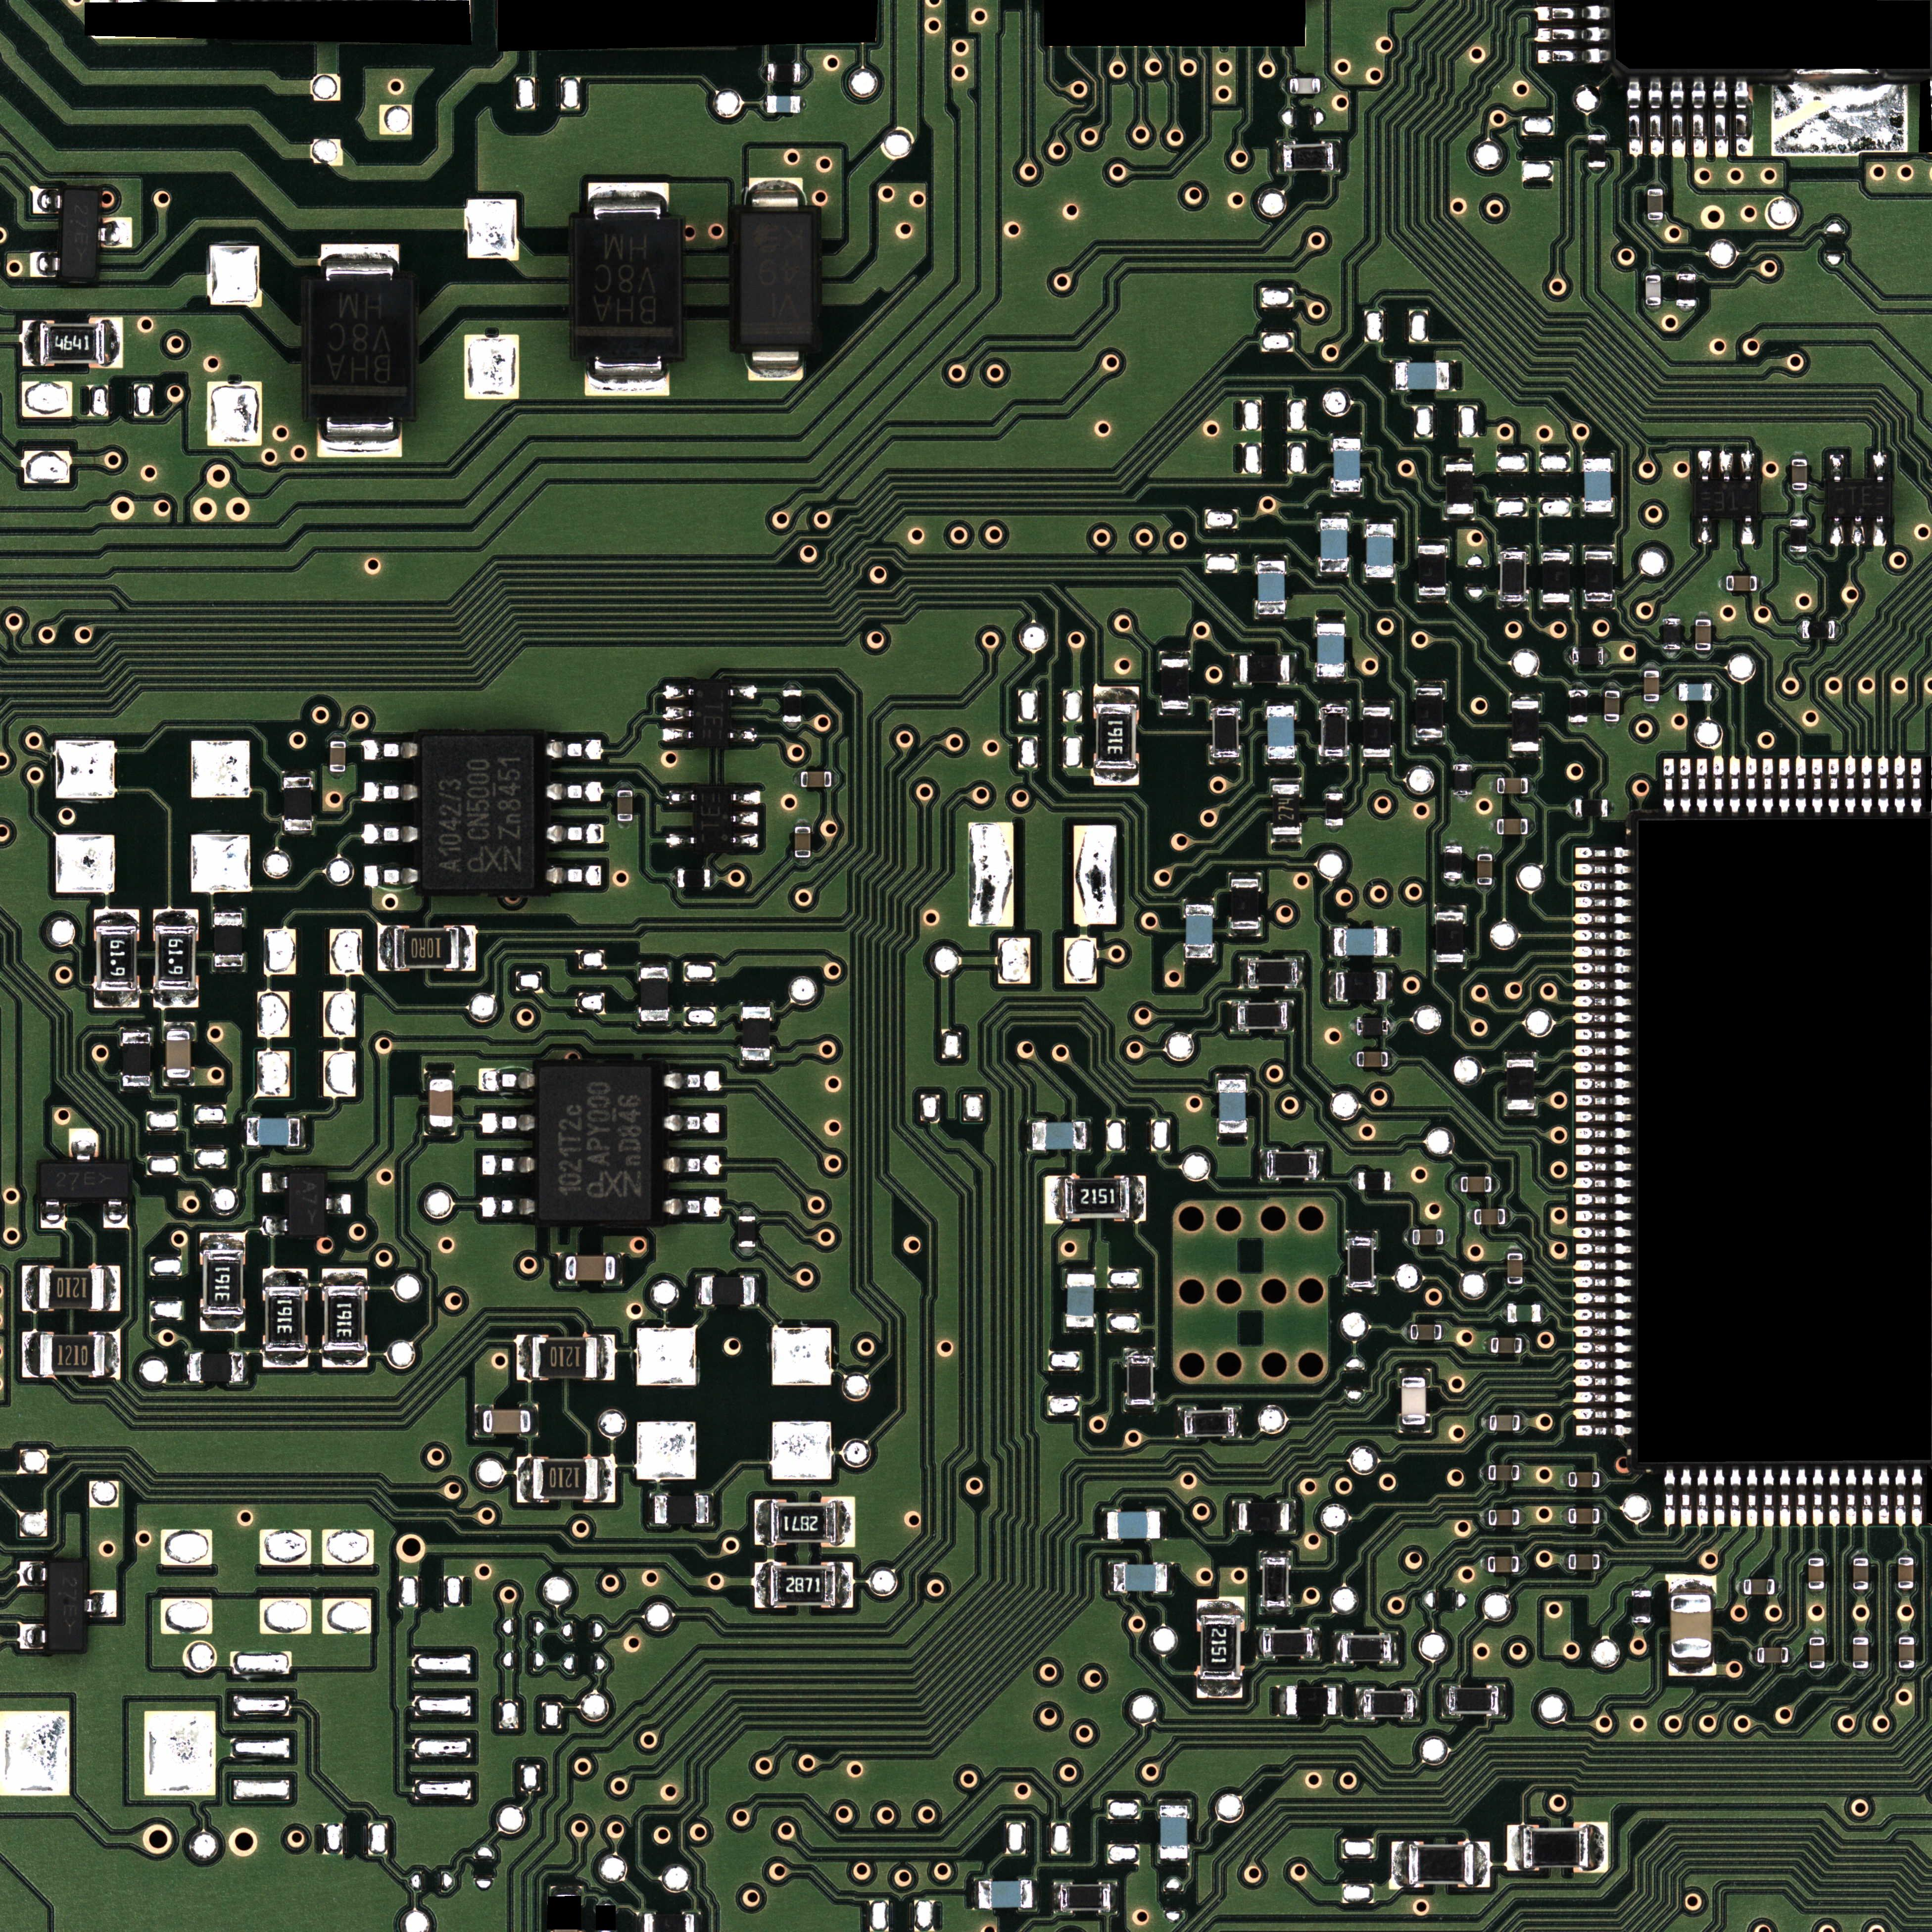Package: (421, 734, 536, 890), (538, 1067, 651, 1221), (573, 218, 681, 359), (306, 278, 414, 418), (740, 212, 814, 343), (39, 1161, 131, 1200), (46, 1560, 85, 1652), (60, 188, 97, 280), (770, 1564, 835, 1606), (1200, 1615, 1242, 1679), (395, 927, 458, 970), (1408, 1844, 1474, 1884), (1523, 1828, 1589, 1868), (202, 1249, 242, 1315), (324, 1286, 364, 1352), (96, 925, 136, 991), (156, 925, 196, 991), (39, 1269, 104, 1309), (533, 1458, 598, 1499), (39, 1334, 104, 1375), (771, 1502, 835, 1543), (1670, 1594, 1711, 1658), (533, 1338, 596, 1378), (1065, 1178, 1129, 1219), (41, 324, 104, 364), (265, 1286, 304, 1352), (1097, 704, 1136, 770), (287, 1171, 326, 1235), (694, 681, 729, 745), (1695, 481, 1759, 517), (1826, 483, 1891, 517), (695, 787, 731, 849), (1583, 458, 1612, 513), (1113, 1564, 1168, 1592), (702, 1276, 754, 1306), (1267, 706, 1295, 759), (640, 968, 669, 1021), (283, 777, 311, 830), (741, 1007, 770, 1060), (214, 913, 242, 966), (655, 1495, 708, 1523), (122, 1033, 150, 1086), (189, 1353, 242, 1382), (1033, 1122, 1086, 1150), (1108, 1511, 1159, 1539), (1272, 784, 1300, 835), (1318, 623, 1345, 676), (1334, 929, 1387, 955), (978, 1881, 1031, 1907), (1258, 561, 1284, 614), (1366, 524, 1392, 577), (1219, 1079, 1246, 1132), (1396, 363, 1449, 389), (1185, 904, 1212, 957), (1332, 439, 1359, 492), (1435, 913, 1463, 962), (1445, 464, 1474, 513), (1240, 655, 1290, 683), (1336, 971, 1385, 1000), (1238, 1502, 1288, 1530), (248, 1118, 299, 1145), (1161, 1806, 1187, 1858), (1320, 520, 1346, 571), (1067, 1276, 1093, 1327), (1286, 1688, 1336, 1714), (1127, 1355, 1154, 1405), (1507, 1060, 1534, 1109), (1162, 660, 1189, 709), (1231, 879, 1258, 929), (1585, 552, 1612, 602), (1419, 545, 1445, 594), (1449, 1688, 1499, 1714), (1415, 688, 1442, 738), (1513, 701, 1539, 750), (1247, 959, 1297, 985), (1364, 708, 1391, 757), (1364, 1690, 1412, 1716), (1343, 1635, 1391, 1661), (1543, 554, 1569, 602), (1263, 1629, 1311, 1656), (1062, 1884, 1109, 1911), (1263, 1557, 1288, 1606), (1267, 1152, 1316, 1177), (1214, 708, 1238, 757), (1500, 552, 1525, 602), (1322, 708, 1346, 755), (1238, 1003, 1286, 1028), (1284, 145, 1332, 170), (566, 1256, 614, 1281), (1401, 1376, 1426, 1424), (1348, 1238, 1373, 1286), (1185, 1410, 1233, 1435), (430, 1079, 453, 1127), (483, 1410, 531, 1433), (166, 1031, 189, 1077), (1359, 1171, 1391, 1191), (1677, 274, 1697, 306), (1444, 846, 1461, 879), (1507, 1304, 1541, 1322), (1575, 800, 1608, 817), (768, 96, 800, 113), (1325, 793, 1343, 824), (768, 64, 800, 81), (678, 869, 709, 886), (1357, 1017, 1389, 1035), (784, 690, 801, 722), (1803, 621, 1835, 639), (1633, 1591, 1651, 1622), (738, 1215, 755, 1247), (1569, 690, 1587, 722), (1679, 683, 1711, 701), (1663, 619, 1681, 649), (1454, 764, 1472, 794), (1852, 1637, 1868, 1668), (1497, 819, 1529, 835), (1589, 134, 1605, 166), (794, 826, 810, 858), (1790, 520, 1806, 552), (1898, 1637, 1914, 1668), (1497, 778, 1529, 794), (1507, 1253, 1523, 1284), (1491, 1338, 1522, 1353), (1290, 78, 1320, 94), (1573, 648, 1603, 663), (1490, 1415, 1520, 1431), (1808, 1559, 1824, 1589), (1488, 1557, 1518, 1573), (1461, 1177, 1491, 1192), (801, 771, 832, 787), (1357, 1051, 1387, 1067), (1647, 189, 1663, 219), (1695, 619, 1711, 649), (1414, 1230, 1444, 1246), (1569, 1553, 1599, 1569), (1476, 1208, 1506, 1224), (1569, 1507, 1599, 1523), (1490, 1509, 1520, 1525), (1490, 1465, 1520, 1481), (617, 791, 633, 821), (1477, 855, 1493, 885), (1569, 1472, 1599, 1488), (1644, 671, 1660, 701), (1410, 1325, 1442, 1339), (1898, 1557, 1913, 1589), (1759, 1647, 1787, 1663), (1605, 690, 1619, 722), (1645, 276, 1661, 304), (1810, 1637, 1824, 1668), (1792, 460, 1806, 490), (1854, 1559, 1868, 1589), (1727, 577, 1757, 591), (1744, 1580, 1775, 1594), (331, 741, 345, 771)
Solder: (1771, 83, 1909, 156), (318, 419, 402, 456), (586, 361, 669, 396), (589, 182, 669, 216), (320, 244, 398, 278), (747, 345, 803, 380), (748, 177, 803, 212), (1734, 76, 1755, 156), (1647, 76, 1667, 157), (1713, 76, 1730, 159), (1691, 76, 1709, 159), (1626, 76, 1644, 159), (1670, 76, 1688, 157), (1532, 25, 1612, 42), (1532, 46, 1612, 64), (1532, 4, 1610, 21), (663, 1111, 720, 1134), (663, 1194, 720, 1217), (547, 821, 603, 844), (545, 738, 602, 761), (479, 1069, 534, 1092), (547, 863, 602, 886), (665, 1069, 720, 1092), (363, 780, 418, 803), (665, 1152, 720, 1175), (481, 1111, 534, 1134), (363, 740, 418, 761), (547, 780, 602, 801), (363, 823, 418, 844), (481, 1196, 534, 1217), (364, 865, 418, 886), (481, 1154, 534, 1175), (99, 218, 133, 248), (835, 1497, 855, 1548), (1589, 1822, 1608, 1872), (69, 1129, 99, 1161), (1893, 1467, 1909, 1527), (1661, 1467, 1677, 1527), (1668, 1575, 1716, 1594), (1792, 1468, 1808, 1527), (1743, 1468, 1759, 1527), (1727, 1468, 1743, 1527), (104, 317, 122, 368), (1046, 1177, 1065, 1223), (1573, 913, 1635, 927), (1573, 929, 1635, 943), (1573, 1109, 1635, 1123), (1573, 1159, 1635, 1173), (1573, 1192, 1635, 1207), (1573, 1325, 1635, 1339), (1877, 1467, 1891, 1527), (1859, 1467, 1874, 1527), (1810, 1467, 1824, 1527), (1679, 1467, 1693, 1527), (1575, 879, 1635, 893), (1575, 895, 1635, 909), (1573, 945, 1633, 959), (1573, 961, 1633, 975), (1573, 978, 1633, 993), (1573, 994, 1633, 1008), (1573, 1010, 1633, 1024), (1573, 1060, 1633, 1074), (1573, 1076, 1633, 1090), (1573, 1093, 1633, 1108), (1573, 1127, 1633, 1141), (1573, 1143, 1633, 1157), (1573, 1177, 1633, 1191), (1573, 1208, 1633, 1223), (1573, 1226, 1633, 1240), (1573, 1242, 1633, 1256), (1573, 1292, 1633, 1306), (1573, 1307, 1633, 1322), (1573, 1341, 1633, 1355), (1573, 1391, 1633, 1405), (1573, 1408, 1633, 1422), (1573, 1424, 1633, 1438), (1196, 1598, 1244, 1615), (1668, 1658, 1716, 1675), (85, 1591, 117, 1617), (835, 1560, 853, 1608), (1911, 1468, 1925, 1527), (1844, 1468, 1858, 1527), (1828, 1468, 1842, 1527), (1778, 1468, 1792, 1527), (1760, 1468, 1775, 1527), (1695, 1468, 1709, 1527), (1711, 1468, 1725, 1527), (1729, 755, 1743, 814), (1778, 755, 1792, 814), (1794, 755, 1808, 814), (1828, 755, 1842, 814), (1844, 755, 1858, 814), (1909, 755, 1923, 814), (1893, 755, 1907, 814), (94, 991, 140, 1008), (596, 1334, 614, 1380), (598, 1456, 616, 1502), (1196, 1681, 1242, 1698), (322, 1269, 368, 1286), (1391, 1842, 1408, 1888), (262, 1269, 308, 1286), (754, 1499, 771, 1545), (21, 320, 39, 366), (21, 1265, 39, 1311), (458, 925, 476, 971), (1093, 686, 1139, 704), (1679, 757, 1693, 814), (1695, 757, 1709, 814), (30, 251, 60, 278), (154, 991, 198, 1008), (1573, 1276, 1635, 1288), (104, 1330, 120, 1378), (32, 189, 62, 214), (1575, 847, 1635, 860), (1762, 754, 1775, 814), (1746, 754, 1759, 814), (1861, 754, 1874, 814), (1575, 863, 1635, 876), (1573, 1028, 1633, 1040), (1573, 1044, 1633, 1056), (1575, 1260, 1635, 1272), (1573, 1359, 1633, 1371), (1573, 1375, 1633, 1387), (517, 1456, 533, 1502), (94, 909, 140, 925), (517, 1334, 533, 1380), (200, 1233, 246, 1249), (1474, 1842, 1490, 1888), (23, 1332, 39, 1378), (1507, 1824, 1523, 1870), (104, 1265, 120, 1311), (322, 1352, 368, 1368), (1093, 770, 1139, 786), (1713, 755, 1725, 814), (1812, 755, 1824, 814), (1877, 755, 1890, 814), (154, 909, 198, 925), (200, 1315, 244, 1330), (19, 1622, 46, 1649), (1131, 1177, 1146, 1221), (19, 1560, 46, 1587), (41, 1200, 65, 1228), (103, 1200, 127, 1228), (1663, 757, 1675, 814), (379, 925, 393, 971), (755, 1562, 770, 1608), (264, 1353, 308, 1368), (1697, 449, 1713, 481), (1741, 449, 1757, 481), (326, 1194, 350, 1214), (262, 1173, 287, 1192), (1739, 517, 1755, 545), (1720, 449, 1734, 481), (1697, 517, 1713, 545), (262, 1217, 287, 1235), (1829, 453, 1844, 483), (665, 833, 695, 847), (731, 727, 757, 743), (663, 706, 692, 720), (663, 727, 692, 741), (729, 685, 757, 699), (732, 791, 761, 805), (1872, 517, 1886, 545), (1829, 517, 1844, 545), (663, 685, 692, 699), (667, 791, 695, 805), (732, 812, 759, 826), (732, 833, 757, 847), (1852, 517, 1865, 545), (1874, 453, 1886, 481), (529, 1407, 540, 1435), (1541, 545, 1573, 554), (1415, 594, 1447, 603), (1399, 1424, 1431, 1433), (1355, 1688, 1364, 1720), (163, 1077, 195, 1086), (425, 1127, 455, 1136), (1506, 1051, 1536, 1060), (1109, 1882, 1118, 1913), (1399, 1368, 1430, 1376), (474, 1405, 483, 1435), (425, 1070, 455, 1079), (1053, 1882, 1062, 1911), (1031, 1881, 1040, 1909), (211, 966, 246, 973), (1330, 432, 1364, 439), (1254, 554, 1288, 561), (1265, 699, 1299, 706), (1240, 955, 1247, 989), (1215, 1072, 1249, 1079), (1504, 1109, 1537, 1116), (1228, 872, 1261, 879), (1499, 1683, 1506, 1716), (1391, 1631, 1398, 1665), (1336, 1631, 1343, 1665), (1159, 1507, 1166, 1541), (1100, 1507, 1108, 1541), (1168, 1562, 1175, 1596), (1233, 653, 1240, 686), (1389, 359, 1396, 393), (548, 1886, 582, 1893), (1332, 140, 1339, 172), (1276, 140, 1283, 172), (1582, 602, 1614, 609), (1539, 602, 1571, 609), (1497, 545, 1529, 552), (1497, 602, 1529, 609), (1417, 538, 1449, 545), (1442, 513, 1474, 520), (1254, 614, 1286, 621), (1265, 759, 1297, 766), (1208, 757, 1240, 764), (1290, 653, 1297, 685), (1361, 757, 1392, 764), (1362, 701, 1394, 708), (1414, 681, 1445, 688), (1414, 738, 1445, 745), (1509, 750, 1541, 757), (1509, 694, 1541, 701), (1435, 906, 1467, 913), (1433, 962, 1465, 970), (1329, 971, 1336, 1003), (1385, 970, 1392, 1001), (1286, 1000, 1293, 1031), (1316, 1148, 1323, 1180), (1260, 1150, 1267, 1182), (1297, 957, 1304, 989), (1230, 929, 1261, 936), (1345, 1288, 1376, 1295), (1442, 1684, 1449, 1716), (1336, 1684, 1343, 1716), (1313, 1628, 1320, 1660), (1256, 1628, 1263, 1660), (1258, 1606, 1290, 1614), (1260, 1550, 1292, 1557), (1231, 1500, 1238, 1532), (1233, 1407, 1240, 1438), (1123, 1405, 1155, 1412), (1123, 1348, 1155, 1355), (1063, 1327, 1095, 1334), (163, 1023, 195, 1030), (120, 1086, 152, 1093), (120, 1026, 152, 1033), (559, 1253, 566, 1284), (754, 1276, 761, 1307), (740, 1060, 771, 1067), (1161, 651, 1191, 658), (1583, 545, 1614, 552), (1364, 577, 1394, 584), (1210, 701, 1240, 708), (1159, 709, 1189, 717), (1231, 1001, 1238, 1031), (1346, 1231, 1376, 1238), (1065, 1269, 1095, 1276), (973, 1879, 980, 1909), (1159, 1858, 1189, 1865), (1159, 1799, 1189, 1806), (281, 830, 311, 837), (1387, 927, 1394, 955), (1318, 513, 1352, 518), (1315, 617, 1348, 623), (1318, 701, 1352, 706), (1316, 757, 1350, 763), (1290, 1500, 1295, 1534), (299, 1115, 304, 1148), (212, 908, 246, 913), (1350, 1171, 1359, 1191), (1364, 518, 1396, 524), (1315, 678, 1346, 683), (1329, 925, 1334, 957), (1414, 1688, 1419, 1720), (1281, 1684, 1286, 1716), (1108, 1560, 1113, 1592), (1178, 1407, 1184, 1438), (1449, 359, 1454, 391), (242, 1116, 248, 1148), (639, 1021, 671, 1026), (639, 962, 671, 968), (740, 1001, 771, 1007), (281, 771, 313, 777), (1583, 453, 1614, 458), (1444, 458, 1474, 464), (1318, 573, 1348, 579), (1330, 492, 1361, 497), (1184, 899, 1214, 904), (1217, 1132, 1247, 1138), (1028, 1120, 1033, 1150), (616, 1253, 621, 1283), (695, 1276, 701, 1306), (1677, 265, 1695, 274), (1790, 552, 1808, 561), (1454, 794, 1472, 803), (1663, 649, 1681, 658), (1663, 610, 1681, 619), (1603, 648, 1612, 665), (1564, 648, 1573, 665), (1642, 662, 1660, 671), (1569, 681, 1587, 690), (1185, 957, 1214, 962), (800, 96, 809, 111), (759, 96, 768, 111), (800, 64, 809, 80), (1442, 1230, 1451, 1246), (1787, 1647, 1796, 1663), (740, 1247, 755, 1256), (794, 856, 810, 865), (793, 771, 801, 787), (1453, 757, 1472, 764), (1444, 839, 1463, 846), (1391, 1171, 1398, 1191), (671, 869, 678, 888), (709, 869, 717, 888), (1325, 826, 1343, 833), (1644, 306, 1661, 313), (1677, 306, 1695, 313), (1325, 786, 1343, 793), (1488, 778, 1497, 793), (1835, 621, 1842, 639), (1718, 575, 1727, 589), (1695, 612, 1713, 619), (1444, 879, 1461, 886), (1389, 1017, 1396, 1035), (1350, 1017, 1357, 1035), (1633, 1583, 1651, 1591), (1633, 1622, 1651, 1629), (1736, 1580, 1744, 1594), (1854, 1589, 1868, 1598), (1569, 722, 1587, 729), (738, 1208, 755, 1215), (784, 722, 801, 729), (784, 683, 801, 690), (329, 734, 347, 741), (1608, 800, 1615, 817), (1568, 798, 1575, 816), (1808, 1589, 1824, 1596), (1350, 1051, 1357, 1067), (1645, 269, 1661, 276), (1589, 166, 1605, 173), (1283, 78, 1290, 94), (1320, 78, 1327, 94), (761, 65, 768, 81), (1792, 490, 1808, 497), (1582, 513, 1614, 517), (1644, 701, 1660, 708), (1477, 847, 1493, 855), (1387, 1051, 1394, 1067), (1491, 1177, 1499, 1192), (1454, 1177, 1461, 1192), (1467, 1208, 1474, 1224), (1407, 1228, 1414, 1244), (1483, 1415, 1490, 1431), (1483, 1509, 1490, 1525), (1599, 1472, 1606, 1488), (1562, 1472, 1569, 1488), (1599, 1553, 1606, 1569), (1518, 1557, 1525, 1573), (1481, 1557, 1488, 1573), (1775, 1578, 1782, 1594), (1752, 1647, 1759, 1663), (1808, 1629, 1824, 1637), (1852, 1629, 1868, 1637), (1898, 1629, 1914, 1637), (1898, 1668, 1914, 1675), (1852, 1552, 1868, 1559), (1605, 683, 1621, 690), (244, 1353, 248, 1385), (186, 1352, 189, 1384), (616, 821, 632, 828), (617, 782, 633, 789), (794, 819, 810, 826), (832, 771, 839, 787), (329, 771, 345, 778), (1086, 1120, 1090, 1150), (1529, 778, 1536, 793), (1529, 819, 1536, 833), (1490, 819, 1497, 833), (1757, 577, 1764, 591), (1477, 885, 1491, 892), (1562, 1509, 1569, 1523), (1562, 1555, 1569, 1569), (1810, 1668, 1824, 1675), (1854, 1668, 1868, 1675), (1798, 621, 1803, 639), (1502, 1304, 1507, 1322), (1541, 1304, 1546, 1322), (1713, 683, 1718, 701), (1647, 184, 1663, 189), (1589, 129, 1605, 134), (1790, 513, 1806, 518), (1792, 453, 1808, 458), (1695, 649, 1711, 655), (1674, 685, 1679, 701), (1506, 1208, 1511, 1224), (1486, 1338, 1491, 1353), (1522, 1338, 1527, 1353), (1520, 1415, 1525, 1431), (1520, 1465, 1525, 1481), (1483, 1465, 1488, 1481), (1520, 1509, 1525, 1525), (1599, 1507, 1605, 1523), (1808, 1552, 1824, 1557), (1898, 1589, 1914, 1594), (1898, 1552, 1914, 1557), (1603, 722, 1619, 727), (1649, 219, 1663, 225), (1442, 1325, 1447, 1339), (600, 1898, 614, 1904), (1407, 1323, 1410, 1339)
